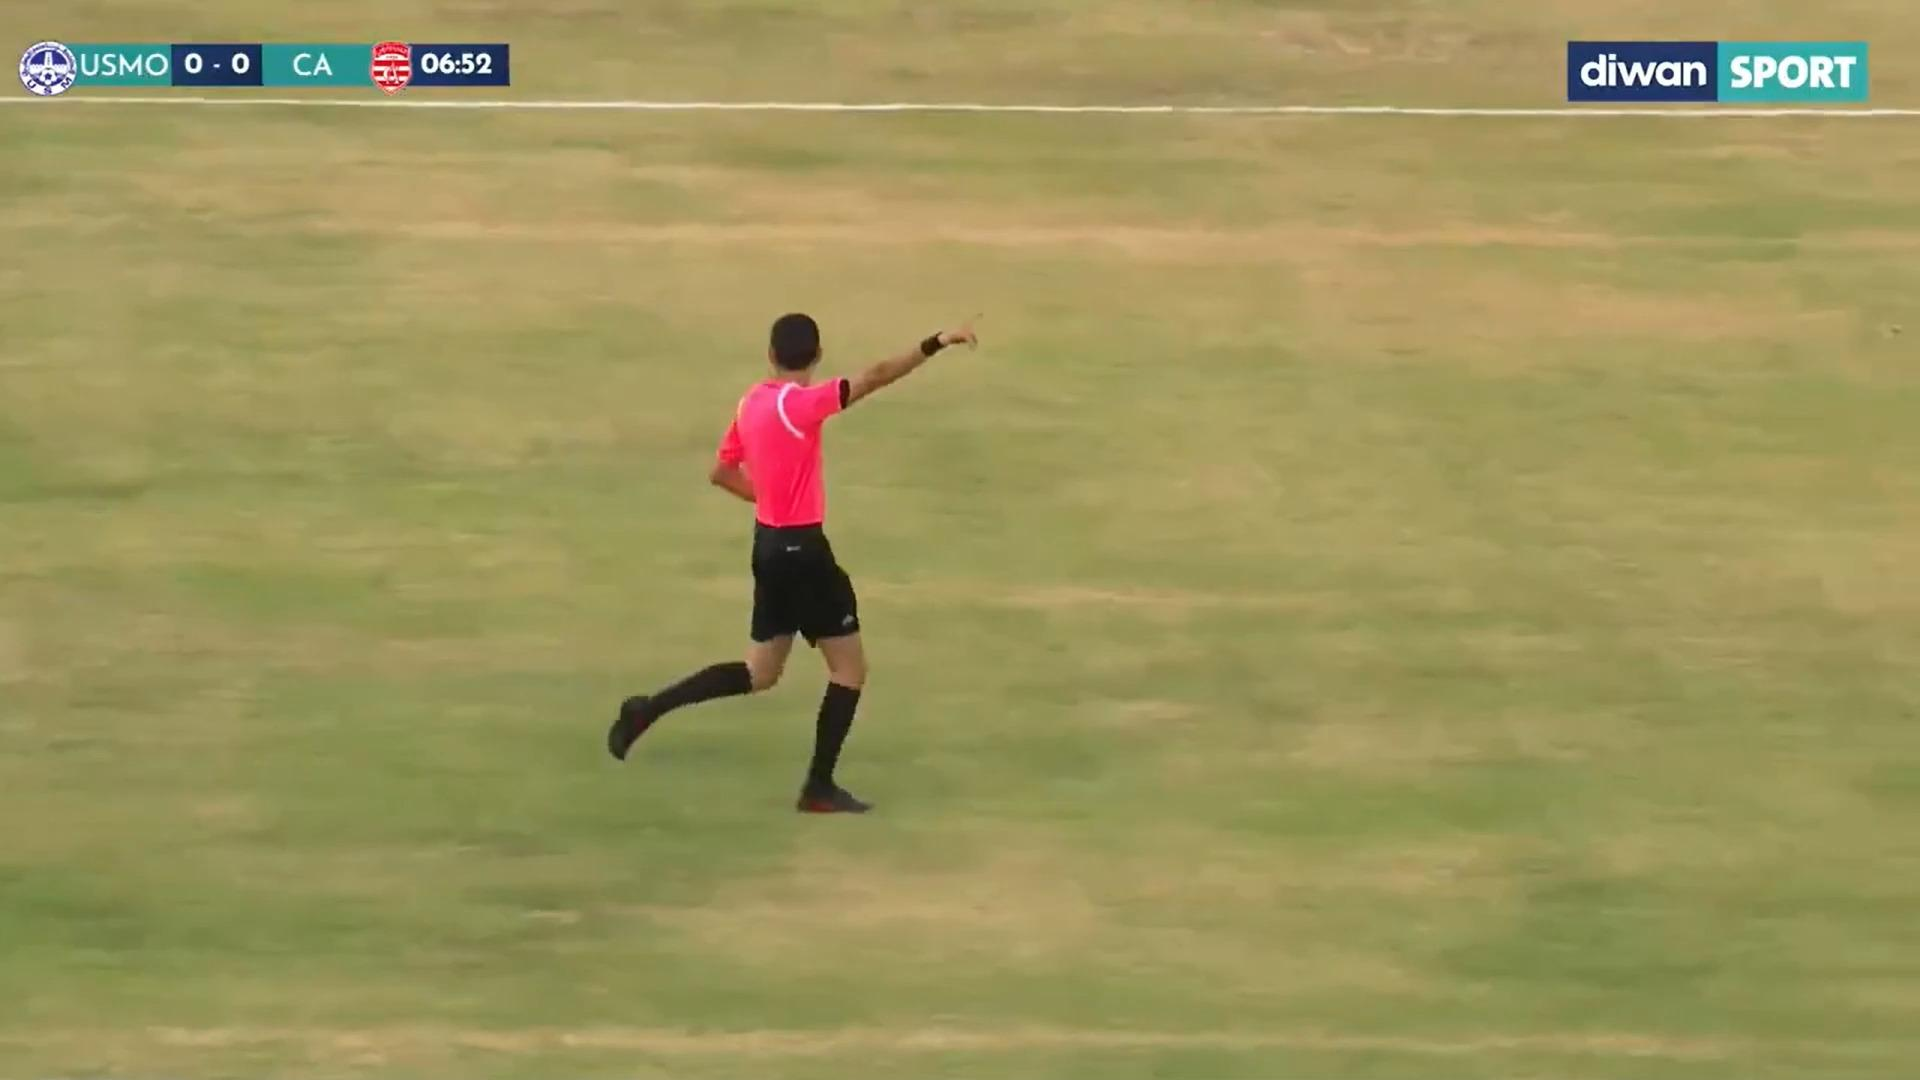referee: (678, 281, 953, 864)
